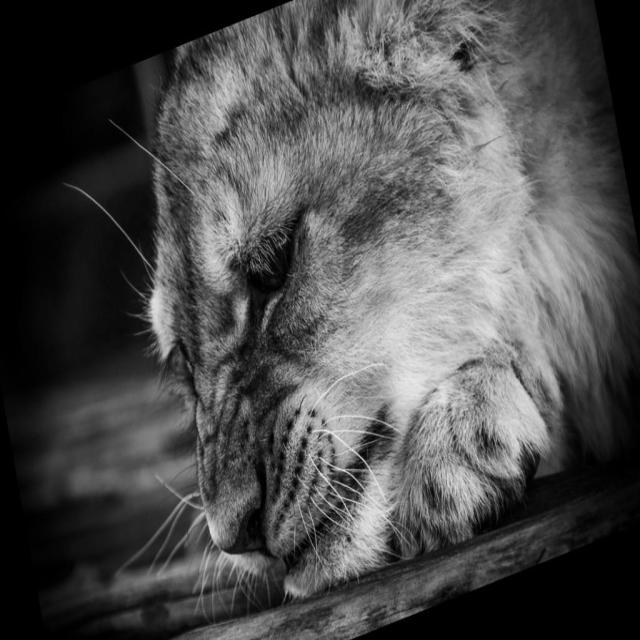Lion: (26, 0, 640, 639)
